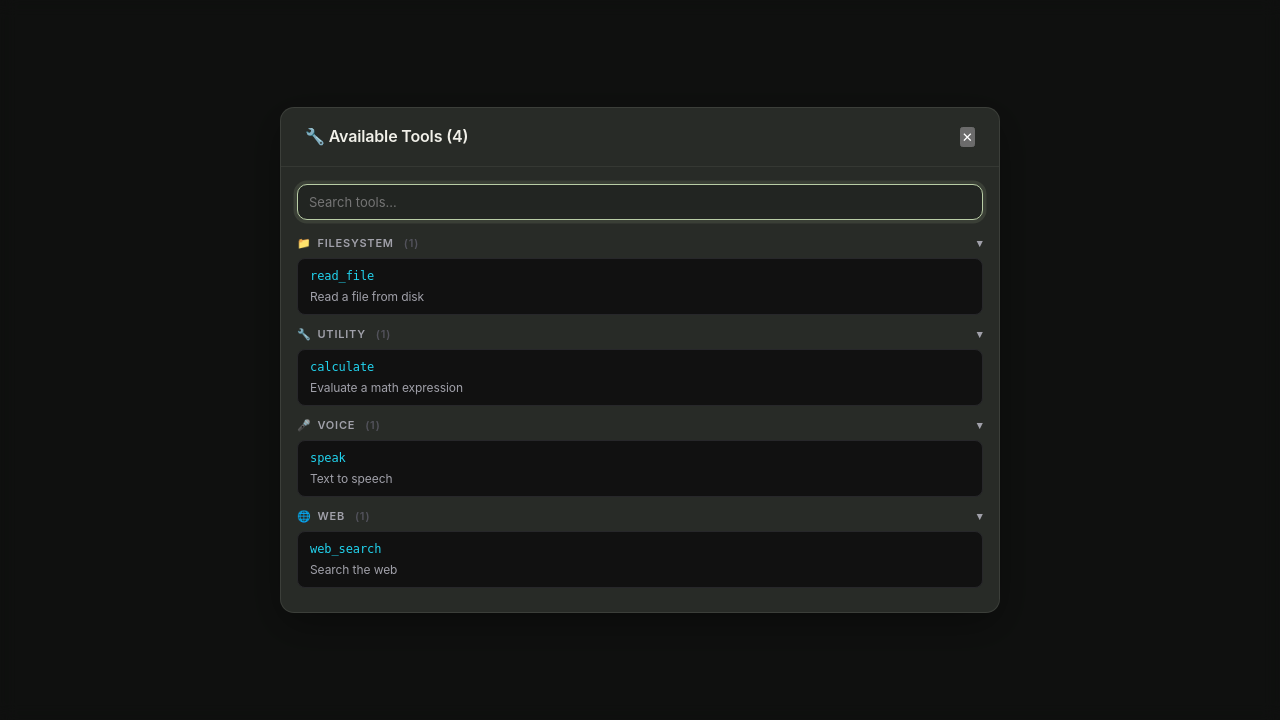
it: ToolsPanel — category collapse/expand › clicking a category header collapses it
Click the button with aria-label "Filesystem tools" at (356, 243), box 297,232 -> 983,254
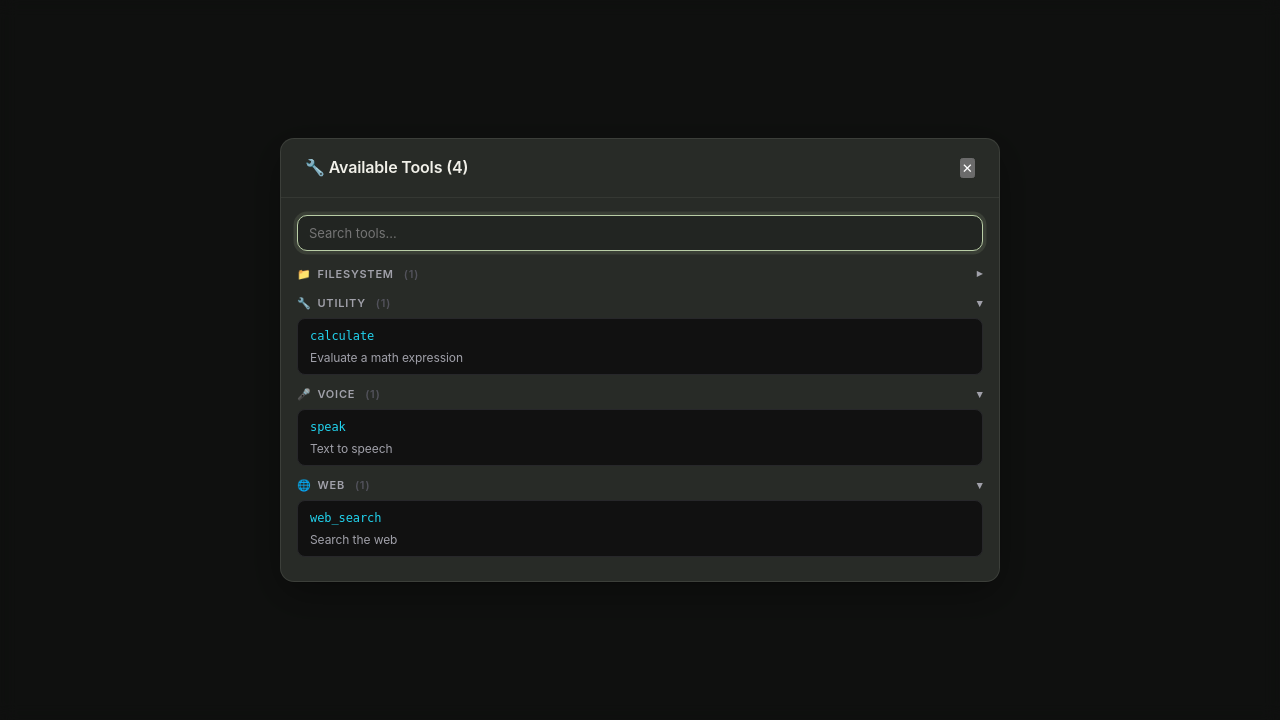
Now the text "read_file" is gone
